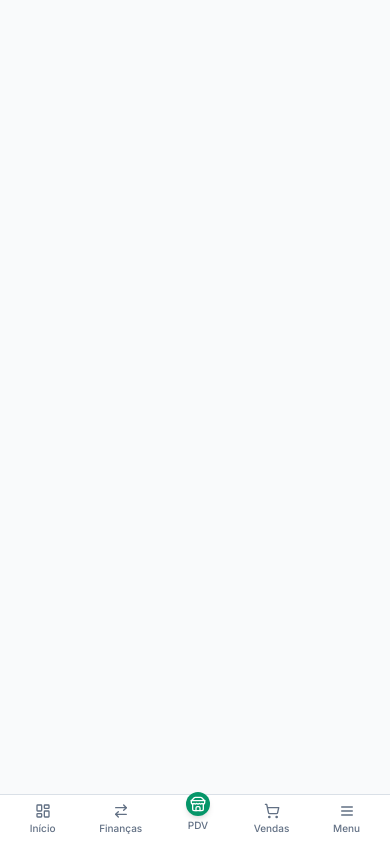
Business Segment & Simplified Profile Mode › Navigation.tsx: Menus Adaptativos › deve exibir Ordens Serv. e Agenda no Sheet quando businessSegment for full (Modo Completo)
This screenshot has width=390, height=844.
Note: Abrir o menu completo mobile (Sheet)
Click the button "Menu" at {"x": 347, "y": 820}, box [323,799,370,840]
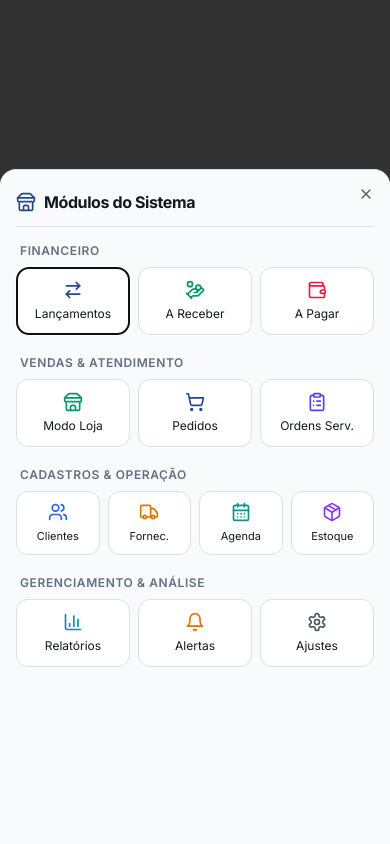
Expected: the text "Ordens Serv." is shown, [280,418,354,434]
Expected: the text "Agenda" is shown, [221,528,261,544]
